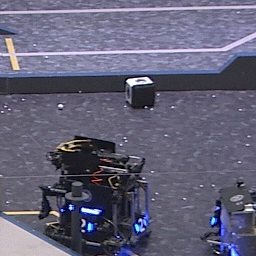Blue: (72, 217, 93, 234), (132, 218, 148, 234)
Robot: (33, 135, 153, 253), (199, 179, 256, 256)
